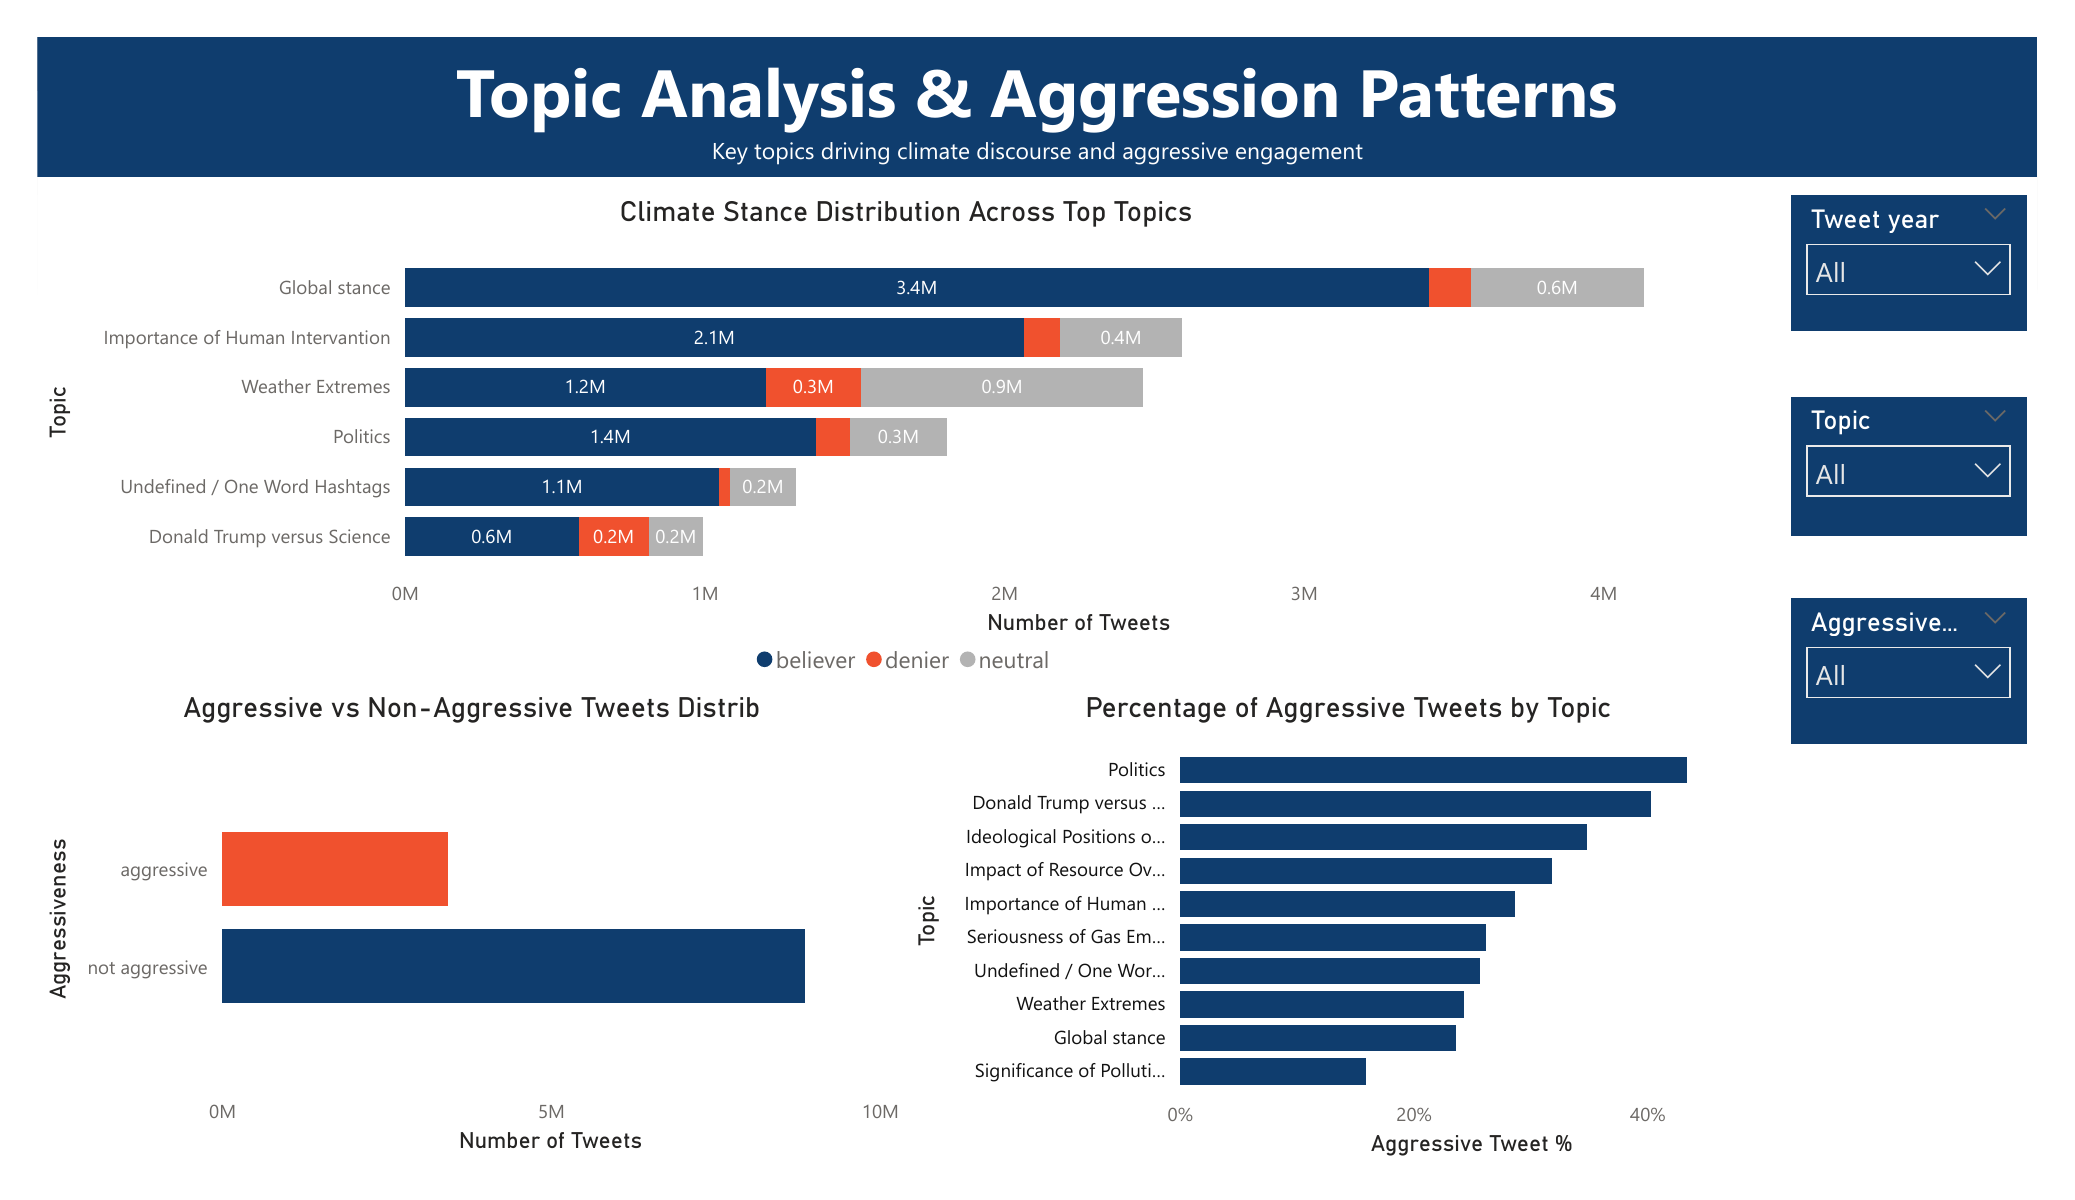

The page's visual inventory and layout, read from the dashboard file:
{"tool":"tableau","page":{"name":"Page 1","canvas":[1000,1000],"units":"permille","ordinal":2},"visuals":[{"type":"text","box":[7,10.8,986,72.3]},{"type":"worksheet","title":"Sheet 5","mark":"Text","box":[7,83,322.2,94.1]},{"type":"worksheet","title":"Sheet 7","mark":"Text","box":[329.2,83,342.4,94.1]},{"type":"worksheet","title":"Sheet 6","mark":"Text","box":[671.6,83,321.4,94.1]},{"type":"filter","title":"Sheet 2","param":"[federated.0t04x5t1wbccgz1bu4hci1i13do6].[yr:orderDate:ok]","box":[840.1,180.1,142.1,134.4]},{"type":"worksheet","title":"Sheet 1","mark":"Bar","rows":["categoryName"],"cols":["Calculation_1402216471646209"],"box":[493.8,184.1,328.6,547]},{"type":"worksheet","title":"Sheet 2","mark":"Automatic","rows":["Calculation_1402216471646209"],"cols":["orderDate"],"box":[17.8,188.2,468.9,251.3]},{"type":"filter","title":"Sheet 1","param":"[federated.0t04x5t1wbccgz1bu4hci1i13do6].[none:categoryName:nk]","box":[841.9,349.5,139.4,262.1]},{"type":"worksheet","title":"Sheet 3","mark":"Automatic","rows":["orderID (orders)"],"cols":["orderDate"],"box":[16.9,446.2,464.5,286.3]}]}

Visuals, with their boxes on the dashboard's canvas, which has no fixed pixel size, in thousandths of its width and height (x1, y1, x2, y2). These are canvas units, not pixel positions in the 2075x1200 screenshot, which may show the page scaled, cropped or inside an application window:
text: [7,11,993,83]
"Sheet 5" worksheet (Text marks): [7,83,329,177]
"Sheet 7" worksheet (Text marks): [329,83,672,177]
"Sheet 6" worksheet (Text marks): [672,83,993,177]
"Sheet 2" filter: [840,180,982,314]
"Sheet 1" worksheet (Bar marks): [494,184,822,731]
"Sheet 2" worksheet: [18,188,487,440]
"Sheet 1" filter: [842,350,981,612]
"Sheet 3" worksheet: [17,446,481,732]
